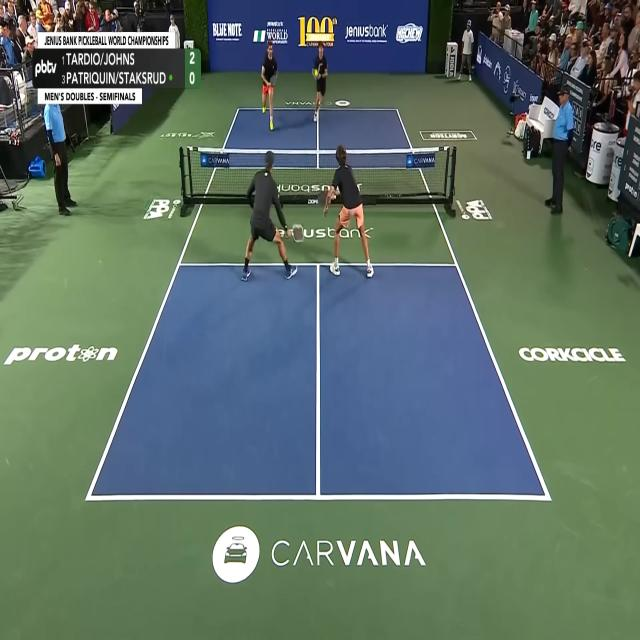ball: (314, 68, 318, 76)
